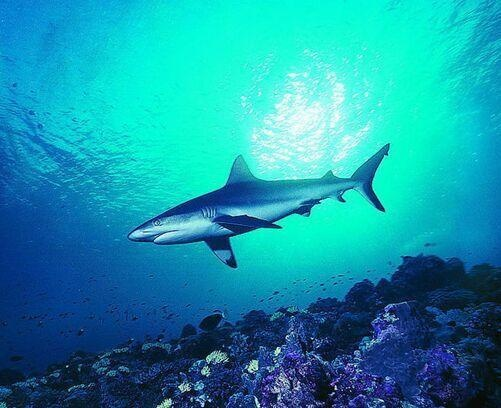fish: (126, 141, 390, 271)
